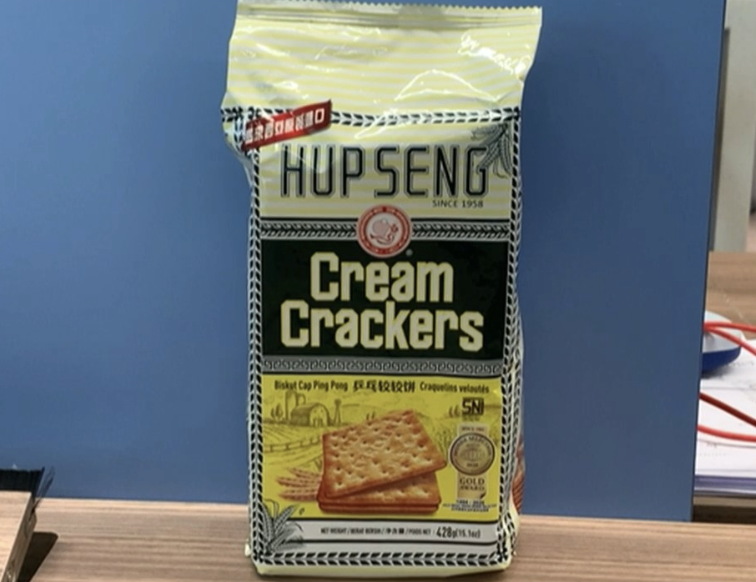crackers_400g-499g: (255, 116, 506, 557)
